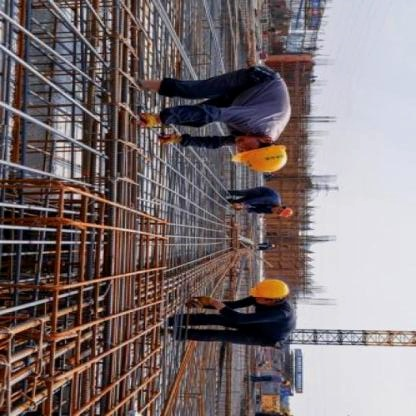yellow: (225, 145, 295, 175), (242, 278, 298, 304)
